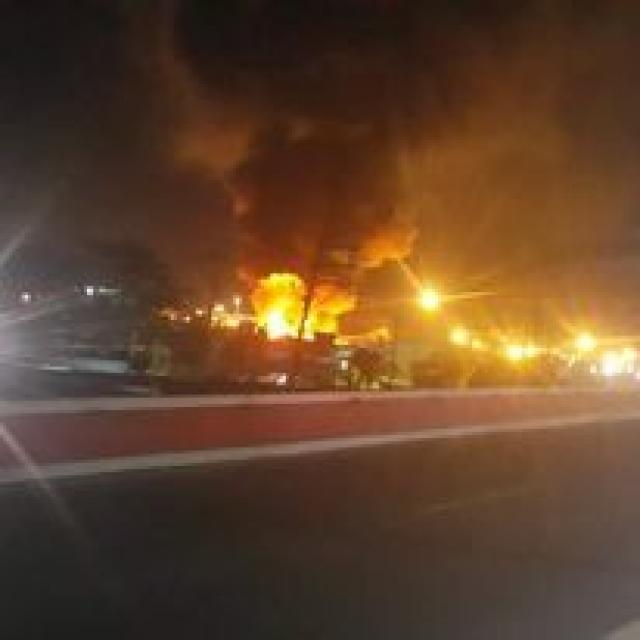Fire: (254, 274, 354, 347)
Smoke: (162, 0, 433, 312)
